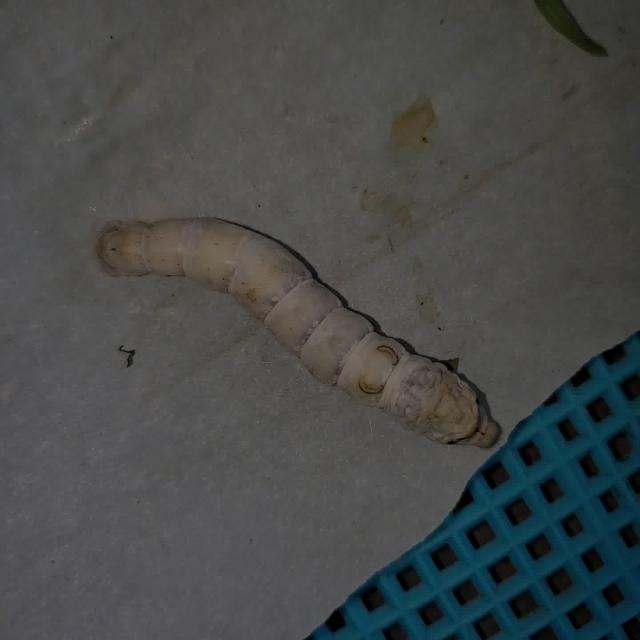Grasserie: (85, 191, 501, 473)
